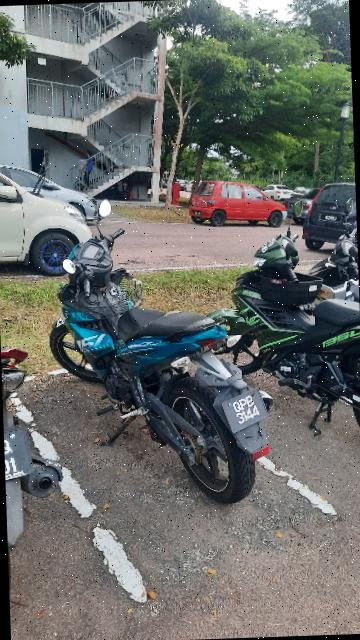License_Plate: (223, 387, 271, 435)
car: (1, 169, 102, 275), (188, 172, 289, 231), (301, 183, 358, 250)
motorcycle: (48, 193, 271, 512), (221, 201, 360, 435)
